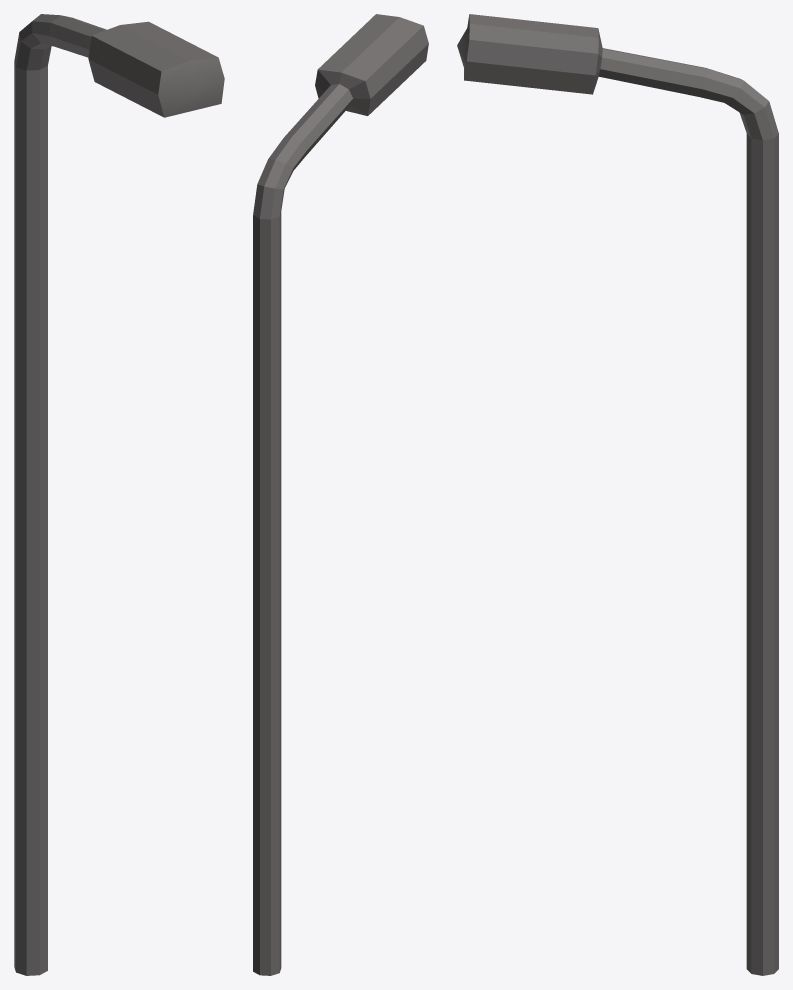
Rendered from SM_Streetlight.fbx.
The picture shows the model from 3 angles, left to right: view 1: azimuth 30°, elevation 25°; view 2: azimuth 150°, elevation 25°; view 3: azimuth 270°, elevation 25°; orthographic projection. The views are drawn at different scales.
Visible parts, largest first — view 1: SM_Streetlight; view 2: SM_Streetlight; view 3: SM_Streetlight.
Boxes of the visible parts, <box> form: SM_Streetlight: <box>14,14,224,975</box>; SM_Streetlight: <box>253,14,428,975</box>; SM_Streetlight: <box>457,14,778,975</box>.
Bounding box in the file's own units: 102 × 1504 × 464.
1 material, 1 textured.
